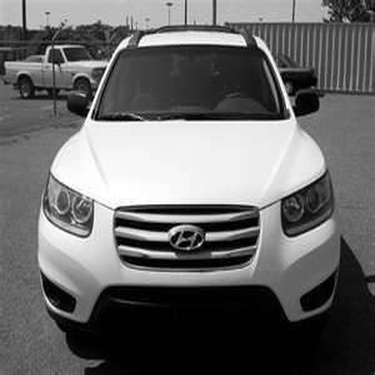car: (32, 19, 355, 352), (1, 46, 111, 102), (251, 44, 322, 109)
